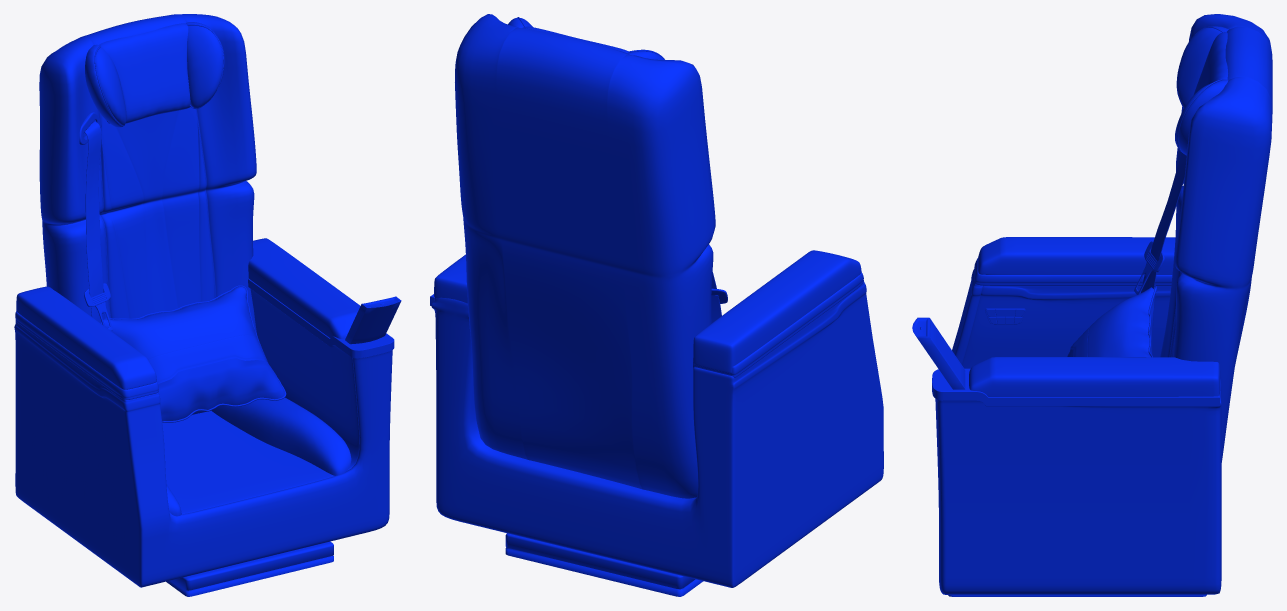
File: chair_middle_right.fbx
3 renders of one model, left to right at view 1: azimuth 30°, elevation 25°; view 2: azimuth 150°, elevation 25°; view 3: azimuth 270°, elevation 25°, orthographic. The views are drawn at different scales.
Visible parts, largest first — view 1: ZuoYi_M_L_2, ZuoYi_M_L_4, ZuoYi_M_L_5, ZuoYi_M_L_3, ZuoYi_M_L_1; view 2: ZuoYi_M_L_4, ZuoYi_M_L_2, ZuoYi_M_L_3; view 3: ZuoYi_M_L_2, ZuoYi_M_L_4, ZuoYi_M_L_5, ZuoYi_M_L_1, ZuoYi_M_L_3.
Boxes of the visible parts, left/top/right/bottom form: ZuoYi_M_L_2: left=14, top=238, right=394, bottom=587; ZuoYi_M_L_4: left=39, top=14, right=256, bottom=414; ZuoYi_M_L_5: left=101, top=285, right=286, bottom=422; ZuoYi_M_L_3: left=166, top=541, right=333, bottom=596; ZuoYi_M_L_1: left=345, top=296, right=401, bottom=344; ZuoYi_M_L_4: left=455, top=14, right=727, bottom=498; ZuoYi_M_L_2: left=430, top=250, right=883, bottom=587; ZuoYi_M_L_3: left=505, top=533, right=703, bottom=596; ZuoYi_M_L_2: left=932, top=237, right=1221, bottom=594; ZuoYi_M_L_4: left=1134, top=14, right=1272, bottom=464; ZuoYi_M_L_5: left=1067, top=285, right=1156, bottom=357; ZuoYi_M_L_1: left=912, top=317, right=965, bottom=389; ZuoYi_M_L_3: left=948, top=594, right=1206, bottom=596.
Size of the model in its own units: 55.49 by 95.2 by 60.9.
